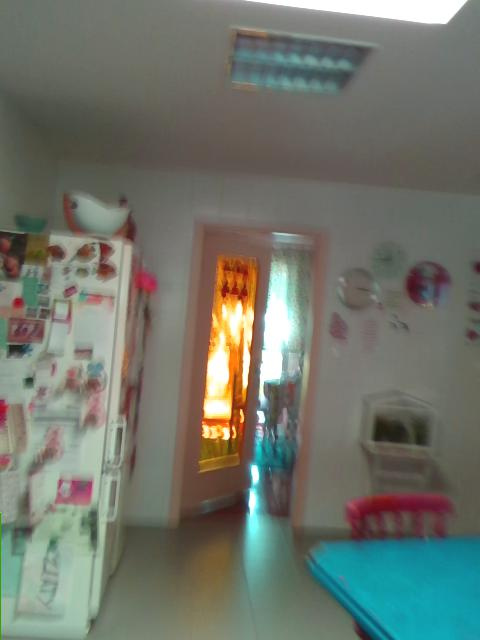semi_door: (165, 216, 326, 529)
